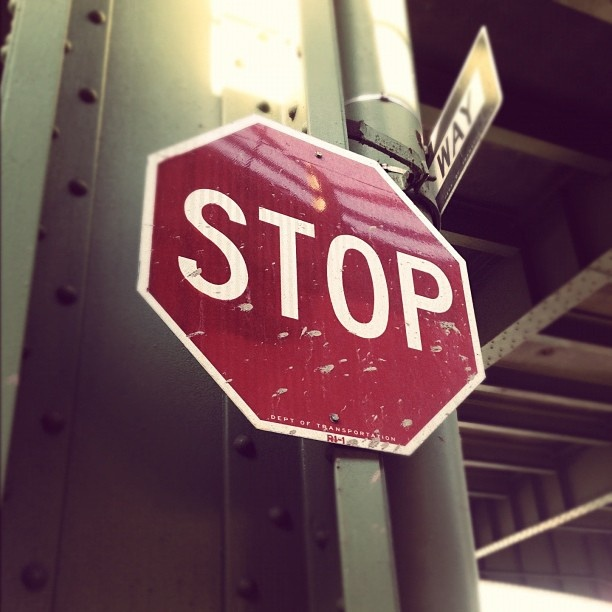stop sign: (137, 114, 612, 570)
